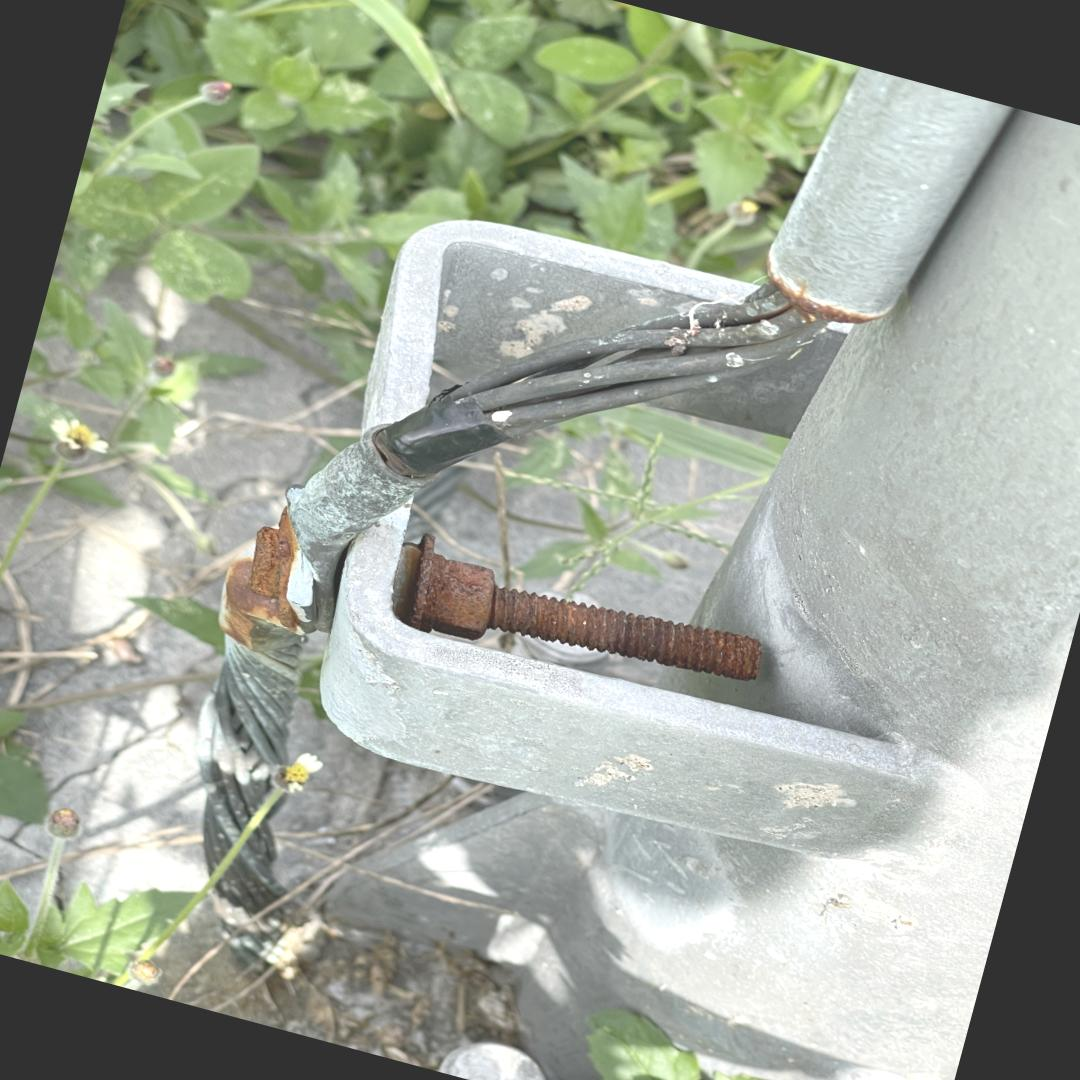Metal: (321, 68, 1080, 1080)
Metal corroido: (394, 534, 763, 682), (216, 507, 302, 644), (767, 259, 901, 327)
